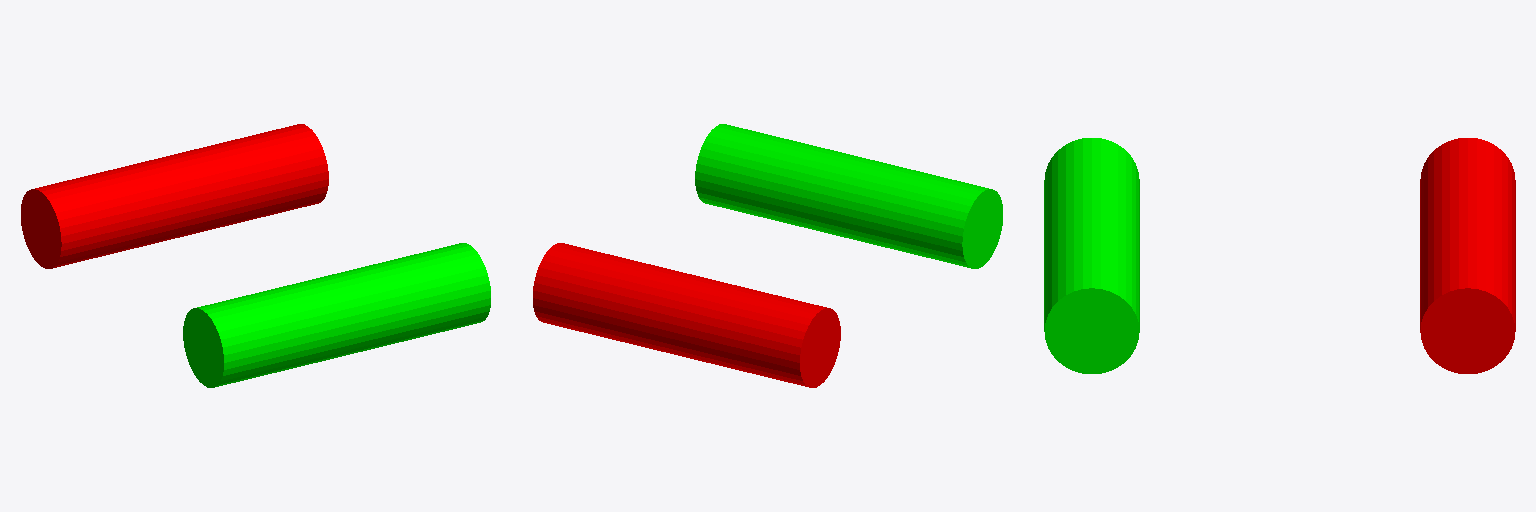
URDF robot description (antworker):
<?xml version="1.0"?>
<robot name="antworker">
        
  <!-- Colors -->
  <material name="red">
      <color rgba="1.0 0.0 0.0 1"/>
  </material>

  <material name="green">
      <color rgba="0.0 1.0 0.0 1"/>
  </material>

  <material name="blue">
      <color rgba="0.0 0.0 1.0 1"/>
  </material>

  <material name="yellow">
      <color rgba="1.0 1.0 0.0 1"/>
  </material>

  <material name="black">
      <color rgba="0.0 0.0 0.0 1"/>
  </material>

  <material name="white">
      <color rgba="1.0 1.0 1.0 1"/>
  </material>

  <!-- Links and Joints -->
  <!-- ========================= -->

  <!-- Base -->
  <link name="kbase_link"></link>

  <!-- Chassis -->
  <link name="chassis_link">
    <visual>
      <geometry>
        <mesh filename="package://antworker_description/description/base/meshes/antworker_chassis.dae" scale="1.0 1.0 1.0"/>
      </geometry>
      <material name="white"/>
    </visual>

    <collision>
      <geometry>
        <mesh filename="package://antworker_description/description/base/meshes/antworker_chassis.dae" scale="1.0 1.0 1.0"/>
      </geometry>
    </collision>

    <inertial>
      <mass value="10"/>
      <inertia ixx="0.62216" ixy="0"        ixz="0" 
                             iyy="0.95216"  iyz="0" 
                                            izz="1.37016"/>
    </inertial>
  </link>

  <joint name="base_link_joint" type="fixed">
    <origin rpy="0 0 0" xyz="0 0 0" />
    <parent link="kbase_link" />
    <child link="chassis_link" />
  </joint>

  <!-- Front Wheel -->
  <link name="front_wheel_link">      
    <visual>
      <origin rpy="0 1.5707 0" xyz="0 0 0"/>
      <geometry>
        <cylinder length="0.75" radius="0.1"/>
      </geometry>
      <material name="red"/>
    </visual>

    <collision>
      <origin rpy="0 1.5707 0" xyz="0 0 0"/>
      <geometry>
        <cylinder length="0.75" radius="0.1"/>
      </geometry>
    </collision>

    <inertial>
    <mass value="10"/>
    <inertia ixx="0.09875"  ixy="0"       ixz="0" 
                            iyy="0.09875" iyz="0" 
                                          izz="0.01"/>
    </inertial>
  </link>

  <joint name="front_wheel_joint" type="continuous">
    <parent link="chassis_link"/>
    <child link="front_wheel_link"/>
    <origin rpy="0 0 0" xyz="0 0.395 -0.420"/>
    <axis rpy="0 0 0" xyz="1 0 0"/>
    <limit effort="10" velocity="2"/>
    <dynamics damping="0.01" friction="0.01"/>
  </joint>

  <!-- Rear Wheel -->
  <link name="rear_wheel_link">      
    <visual>
      <origin rpy="0 1.5707 0" xyz="0 0 0"/>
      <geometry>
        <cylinder length="0.75" radius="0.1"/>
      </geometry>
      <material name="green"/>
    </visual>

    <collision>
      <origin rpy="0 1.5707 0" xyz="0 0 0"/>
      <geometry>
        <cylinder length="0.75" radius="0.1"/>
      </geometry>
    </collision>

    <inertial>
      <mass value="10"/>
      <inertia ixx="0.09875"  ixy="0"       ixz="0" 
                              iyy="0.09875" iyz="0"
                                            izz="0.01"/>
    </inertial>
  </link>

  <joint name="rear_wheel_joint" type="continuous">
    <parent link="chassis_link"/>
    <child link="rear_wheel_link"/>
    <origin rpy="0 0 0" xyz="0 -0.395 -0.420"/>
    <axis rpy="0 0 0" xyz="1 0 0"/>
    <limit effort="10" velocity="2"/>
    <dynamics damping="0.01" friction="0.01"/>
  </joint>

  <link name="arm_base_link">
    <inertial>
      <origin xyz="-0.000648 -0.000166 0.084487" rpy="0 0 0" />
      <mass value="1.697" />
      <inertia ixx="0.004622" ixy="9E-06" ixz="6E-05" iyy="0.004495" iyz="9E-06" izz="0.002079" />
    </inertial>
    <visual>
      <origin xyz="0 0 0" rpy="0 0 0" />
      <geometry>
        <mesh filename="package://antworker_description/description/arm/meshes/base_link.STL" />
      </geometry>
      <material name="">
        <color rgba="0.75294 0.75294 0.75294 1" />
      </material>
    </visual>
    <collision>
      <origin xyz="0 0 0" rpy="0 0 0" />
      <geometry>
        <mesh filename="package://antworker_description/description/arm/meshes/base_link.STL" />
      </geometry>
    </collision>
  </link>

  <joint name="robot_base_link_arm_base_link" type="fixed">
    <origin rpy="0 0 0" xyz="0 0 0" />
    <parent link="kbase_link" />
    <child link="arm_base_link" />
  </joint>

  <link name="shoulder_link">
    <inertial>
      <origin xyz="-2.3E-05 -0.010364 -0.07336" rpy="0 0 0" />
      <mass value="1.377" />
      <inertia ixx="0.00457" ixy="1E-06" ixz="2E-06" iyy="0.004831" iyz="0.000448" izz="0.001409" />
    </inertial>
    <visual>
      <origin xyz="0 0 0" rpy="0 0 0" />
      <geometry>
        <mesh filename="package://antworker_description/description/arm/meshes/shoulder_link.STL" />
      </geometry>
      <material name="">
        <color rgba="0.75294 0.75294 0.75294 1" />
      </material>
    </visual>
    <collision>
      <origin xyz="0 0 0" rpy="0 0 0" />
      <geometry>
        <mesh filename="package://antworker_description/description/arm/meshes/shoulder_link.STL" />
      </geometry>
    </collision>
  </link>

  <joint name="joint_1" type="continuous">
    <origin xyz="0 0 0.15643" rpy="-3.1416 0.0 0.0" />
    <parent link="arm_base_link" />
    <child link="shoulder_link" />
    <axis xyz="0 0 1" />
    <limit effort="39" velocity="1.3963" />
  </joint>

  

  <link name="bicep_link">
    <inertial>
      <origin xyz="3.5E-05 -0.208207 -0.01889" rpy="0 0 0" />
      <mass value="1.262" />
      <inertia ixx="0.046752" ixy="-9E-06" ixz="0" iyy="0.00085" iyz="-9.8E-05" izz="0.047188" />
    </inertial>
    <visual>
      <origin xyz="0 0 0" rpy="0 0 0" />
      <geometry>
        <mesh filename="package://antworker_description/description/arm/meshes/bicep_link.STL" />
      </geometry>
      <material name="">
        <color rgba="0.75294 0.75294 0.75294 1" />
      </material>
    </visual>
    <collision>
      <origin xyz="0 0 0" rpy="0 0 0" />
      <geometry>
        <mesh filename="package://antworker_description/description/arm/meshes/bicep_link.STL" />
      </geometry>
    </collision>
  </link>
  <joint name="joint_2" type="revolute">
    <origin xyz="0 0.005375 -0.12838" rpy="1.5708 0.0 0.0" />
    <parent link="shoulder_link" />
    <child link="bicep_link" />
    <axis xyz="0 0 1" />
    <limit lower="-2.24" upper="2.24" effort="39" velocity="1.3963" />
  </joint>
  <link name="forearm_link">
    <inertial>
      <origin xyz="1.8E-05 0.076168 -0.01397" rpy="0 0 0" />
      <mass value="0.93" />
      <inertia ixx="0.008292" ixy="-1E-06" ixz="0" iyy="0.000628" iyz="0.000432" izz="0.008464" />
    </inertial>
    <visual>
      <origin xyz="0 0 0" rpy="0 0 0" />
      <geometry>
        <mesh filename="package://antworker_description/description/arm/meshes/forearm_link.STL" />
      </geometry>
      <material name="">
        <color rgba="0.75294 0.75294 0.75294 1" />
      </material>
    </visual>
    <collision>
      <origin xyz="0 0 0" rpy="0 0 0" />
      <geometry>
        <mesh filename="package://antworker_description/description/arm/meshes/forearm_link.STL" />
      </geometry>
    </collision>
  </link>
  <joint name="joint_3" type="revolute">
    <origin xyz="0 -0.41 0" rpy="3.1416 0 0" />
    <parent link="bicep_link" />
    <child link="forearm_link" />
    <axis xyz="0 0 1" />
    <limit lower="-2.57" upper="2.57" effort="39" velocity="1.3963" />
  </joint>
  <link name="spherical_wrist_1_link">
    <inertial>
      <origin xyz="-1E-06 0.008486 -0.062937" rpy="0 0 0" />
      <mass value="0.6781" />
      <inertia ixx="0.001645" ixy="0" ixz="0" iyy="0.001666" iyz="-0.000234" izz="0.000389" />
    </inertial>
    <visual>
      <origin xyz="0 0 0" rpy="0 0 0" />
      <geometry>
        <mesh filename="package://antworker_description/description/arm/meshes/spherical_wrist_1_link.STL" />
      </geometry>
      <material name="">
        <color rgba="0.75294 0.75294 0.75294 1" />
      </material>
    </visual>
    <collision>
      <origin xyz="0 0 0" rpy="0 0 0" />
      <geometry>
        <mesh filename="package://antworker_description/description/arm/meshes/spherical_wrist_1_link.STL" />
      </geometry>
    </collision>
  </link>
  <joint name="joint_4" type="continuous">
    <origin xyz="0 0.20843 -0.006375" rpy="1.5708 0.0 0.0" />
    <parent link="forearm_link" />
    <child link="spherical_wrist_1_link" />
    <axis xyz="0 0 1" />
    <limit effort="9" velocity="1.2218" />
  </joint>
  <link name="spherical_wrist_2_link">
    <inertial>
      <origin xyz="-1E-06 0.046429 -0.008704" rpy="0 0 0" />
      <mass value="0.678" />
      <inertia ixx="0.001685" ixy="0" ixz="0" iyy="0.0004" iyz="0.000255" izz="0.001696" />
    </inertial>
    <visual>
      <origin xyz="0 0 0" rpy="0 0 0" />
      <geometry>
        <mesh filename="package://antworker_description/description/arm/meshes/spherical_wrist_2_link.STL" />
      </geometry>
      <material name="">
        <color rgba="0.75294 0.75294 0.75294 1" />
      </material>
    </visual>
    <collision>
      <origin xyz="0 0 0" rpy="0 0 0" />
      <geometry>
        <mesh filename="package://antworker_description/description/arm/meshes/spherical_wrist_2_link.STL" />
      </geometry>
    </collision>
  </link>
  <joint name="joint_5" type="revolute">
    <origin xyz="0 -0.00017505 -0.10593" rpy="-1.5708 0.0 0.0" />
    <parent link="spherical_wrist_1_link" />
    <child link="spherical_wrist_2_link" />
    <axis xyz="0 0 1" />
    <limit lower="-2.09" upper="2.09" effort="9" velocity="1.2218" />
  </joint>
  <link name="bracelet_link">
    <inertial>
      <origin xyz="0.000281 0.011402 -0.029798" rpy="0 0 0" />
      <mass value="0.5" />
      <inertia ixx="0.000587" ixy="3E-06" ixz="3E-06" iyy="0.000369" iyz="-0.000118" izz="0.000609" />
    </inertial>
    <visual>
      <origin xyz="0 0 0" rpy="0 0 0" />
      <geometry>
        <mesh filename="package://antworker_description/description/arm/meshes/bracelet_with_vision_link.STL" />
      </geometry>
      <material name="">
        <color rgba="0.75294 0.75294 0.75294 1" />
      </material>
    </visual>
    <collision>
      <origin xyz="0 0 0" rpy="0 0 0" />
      <geometry>
        <mesh filename="package://antworker_description/description/arm/meshes/bracelet_with_vision_link.STL" />
      </geometry>
    </collision>
  </link>
  <joint name="joint_6" type="continuous">
    <origin xyz="0 0.10593 -0.00017505" rpy="1.5708 0.0 0.0" />
    <parent link="spherical_wrist_2_link" />
    <child link="bracelet_link" />
    <axis xyz="0 0 1" />
    <limit effort="9" velocity="1.2218" />
  </joint>
  <link name="end_effector_link">
    <inertial>
      <origin xyz="0 0 0" rpy="0 0 0" />
      <mass value="0" />
      <inertia ixx="0" ixy="0" ixz="0" iyy="0" iyz="0" izz="0" />
    </inertial>
  </link>
  <joint name="end_effector" type="fixed">
    <origin xyz="0 0 -0.061525" rpy="3.1416 0 -3.1416" />
    <parent link="bracelet_link" />
    <child link="end_effector_link" />
    <axis xyz="0 0 0" />
  </joint>
  <link name="camera_link" />
  <joint name="camera_module" type="fixed">
    <origin xyz="0 0.05639 -0.00305" rpy="3.14159265358979 3.14159265358979 0" />
    <parent link="end_effector_link" />
    <child  link="camera_link" />
  </joint>
  <link name="camera_depth_frame" />
  <joint name="depth_module" type="fixed">
    <origin xyz="0.0275 0.066 -0.00305" rpy="3.14159265358979 3.14159265358979 0" />
    <parent link="end_effector_link" />
    <child  link="camera_depth_frame" />
  </joint>
  <link name="camera_color_frame" />
  <joint name="color_module" type="fixed">
    <origin xyz="0 0.05639 -0.00305" rpy="3.14159265358979 3.14159265358979 0" />
    <parent link="end_effector_link" />
    <child  link="camera_color_frame" />
  </joint>


</robot>

--- Render facts (derived) ---
The picture shows the robot from 3 angles, left to right: view 1: azimuth 30°, elevation 25°; view 2: azimuth 150°, elevation 25°; view 3: azimuth 270°, elevation 25°; orthographic projection.
Model antworker with 15 links and 14 joints (3 revolute, 5 continuous, 6 fixed), rooted at kbase_link, posed all joints at 0.
Links seen in each view (by area): view 1: front_wheel_link, rear_wheel_link; view 2: front_wheel_link, rear_wheel_link; view 3: front_wheel_link, rear_wheel_link.
Boxes of the visible links, box(x1,y1,x2,y2) form: front_wheel_link: box(21, 124, 328, 268); rear_wheel_link: box(183, 243, 490, 387); front_wheel_link: box(533, 243, 840, 387); rear_wheel_link: box(695, 124, 1002, 268); front_wheel_link: box(1420, 138, 1515, 373); rear_wheel_link: box(1044, 138, 1139, 373).
Size in the robot's own frame: 0.75 by 0.99 by 0.2001 metres.
0 mesh visuals loaded from 8 distinct referenced files (none loaded); not drawn: 8 (reference not matched to a file when rendering).